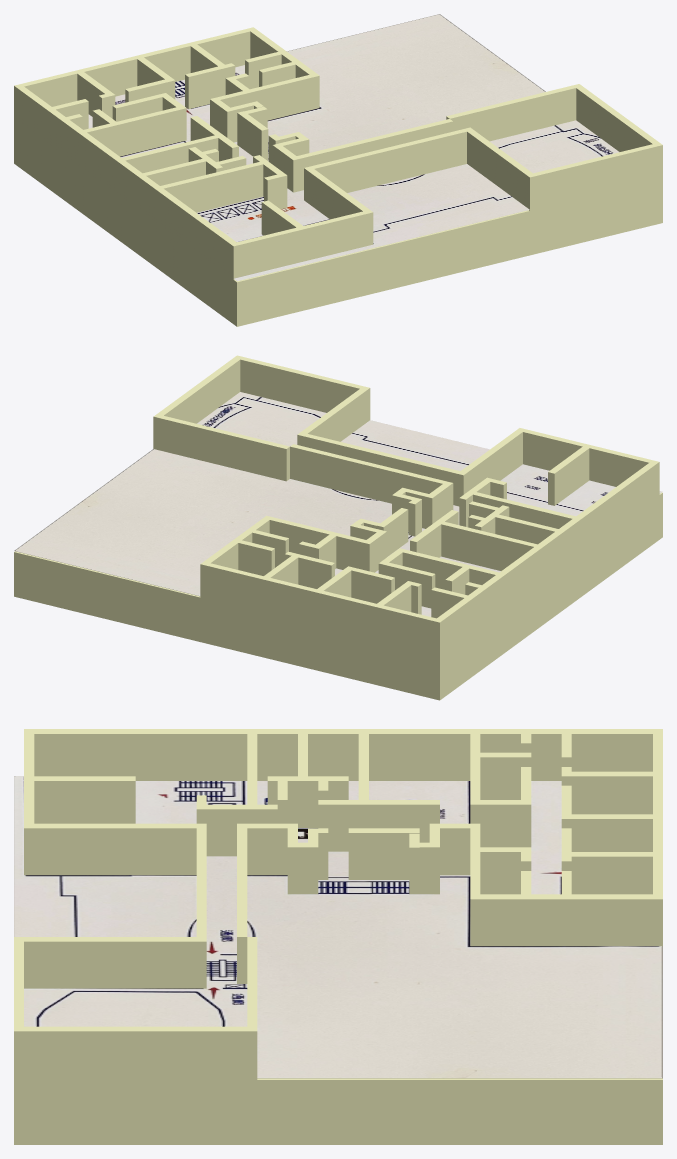
File: College-of-Commerce-2F-cube.glb
3 views of the same model, one above another, from view 1: azimuth 30°, elevation 25°; view 2: azimuth 150°, elevation 25°; view 3: azimuth 270°, elevation 25° (orthographic). The views are drawn at different scales.
Parts seen in each view (by area): view 1: Cube, Plane; view 2: Cube, Plane; view 3: Cube, Plane.
Part boxes in pixels (left/top/right/bottom): Cube: left=14, top=27, right=662, bottom=326; Plane: left=88, top=14, right=619, bottom=281; Cube: left=14, top=355, right=662, bottom=700; Plane: left=14, top=392, right=662, bottom=616; Cube: left=14, top=729, right=662, bottom=1144; Plane: left=14, top=776, right=662, bottom=1078.
Size of the model in its own units: 40.03 by 7 by 36.31.
Materials: 2 (1 with a texture image).
